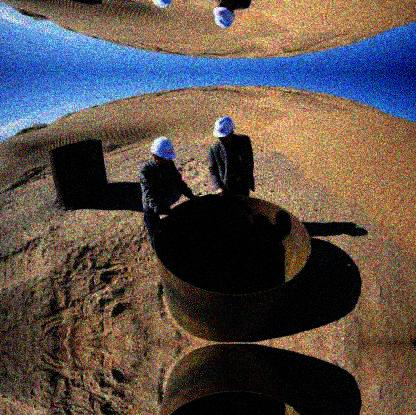helmet: (150, 136, 178, 166), (212, 115, 237, 143), (212, 4, 237, 29)
